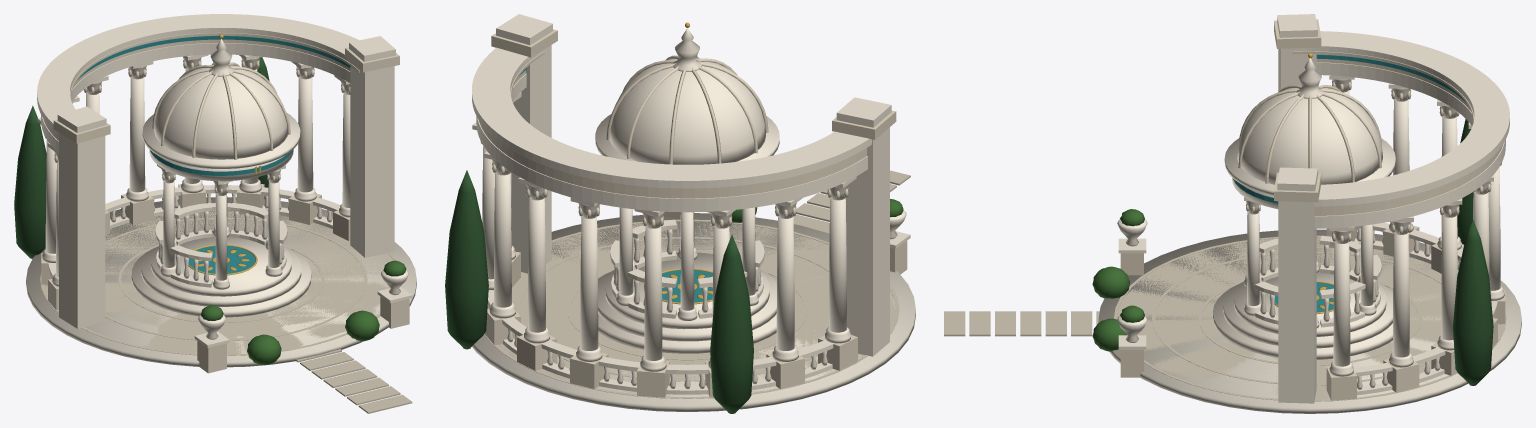
File: hera_cabin.glb
The picture shows the model from 3 angles, left to right: view 1: azimuth 30°, elevation 25°; view 2: azimuth 150°, elevation 25°; view 3: azimuth 270°, elevation 25°; orthographic projection. The views are drawn at different scales.
Visible parts, largest first — view 1: HRA_marble, HRA_paver_b, HRA_paver, HRA_marble_shade, HRA_cypress, HRA_hera_teal, HRA_hedge, HRA_gold; view 2: HRA_marble, HRA_paver_b, HRA_marble_shade, HRA_paver, HRA_cypress, HRA_hera_teal; view 3: HRA_marble, HRA_paver_b, HRA_paver, HRA_marble_shade, HRA_cypress, HRA_hedge, HRA_hera_teal.
Part boxes in pixels (bbox=[...]): HRA_marble: bbox=[37, 14, 412, 347]; HRA_paver_b: bbox=[40, 203, 412, 413]; HRA_paver: bbox=[26, 197, 416, 367]; HRA_marble_shade: bbox=[41, 32, 409, 373]; HRA_cypress: bbox=[14, 57, 269, 258]; HRA_hera_teal: bbox=[78, 35, 350, 273]; HRA_hedge: bbox=[200, 260, 406, 365]; HRA_gold: bbox=[188, 34, 260, 275]; HRA_marble: bbox=[472, 14, 910, 394]; HRA_paver_b: bbox=[484, 170, 910, 398]; HRA_marble_shade: bbox=[479, 29, 907, 397]; HRA_paver: bbox=[472, 213, 915, 411]; HRA_cypress: bbox=[445, 170, 753, 413]; HRA_hera_teal: bbox=[519, 68, 712, 302]; HRA_marble: bbox=[1117, 14, 1509, 403]; HRA_paver_b: bbox=[944, 235, 1506, 401]; HRA_paver: bbox=[1098, 229, 1521, 413]; HRA_marble_shade: bbox=[1120, 19, 1505, 400]; HRA_cypress: bbox=[1453, 119, 1493, 385]; HRA_hedge: bbox=[1092, 209, 1144, 351]; HRA_hera_teal: bbox=[1233, 54, 1465, 312].
Size of what is drawn, in the model's own units: 10 by 7.07 by 13.65.
